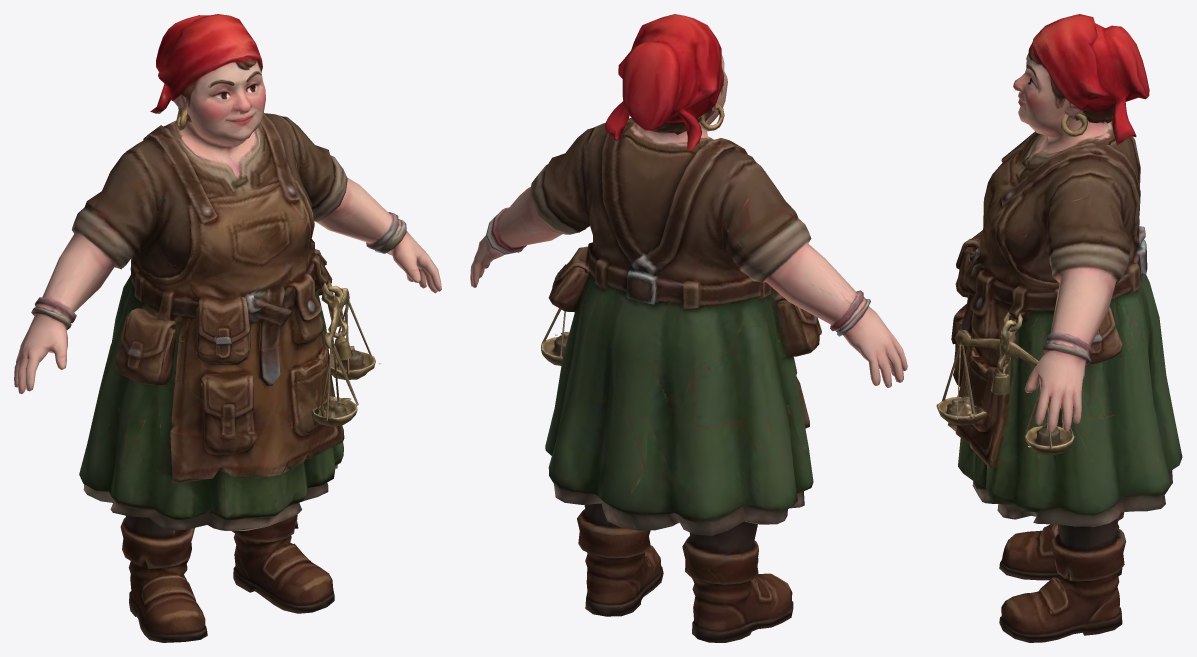
Rendered from npc-ysolde.glb.
3 views of the same model, side by side, from view 1: azimuth 30°, elevation 25°; view 2: azimuth 150°, elevation 25°; view 3: azimuth 270°, elevation 25° (orthographic). The views are drawn at different scales.
Size of the model in its own units: 0.7504 by 1 by 0.3842.
1 material, 1 textured.
